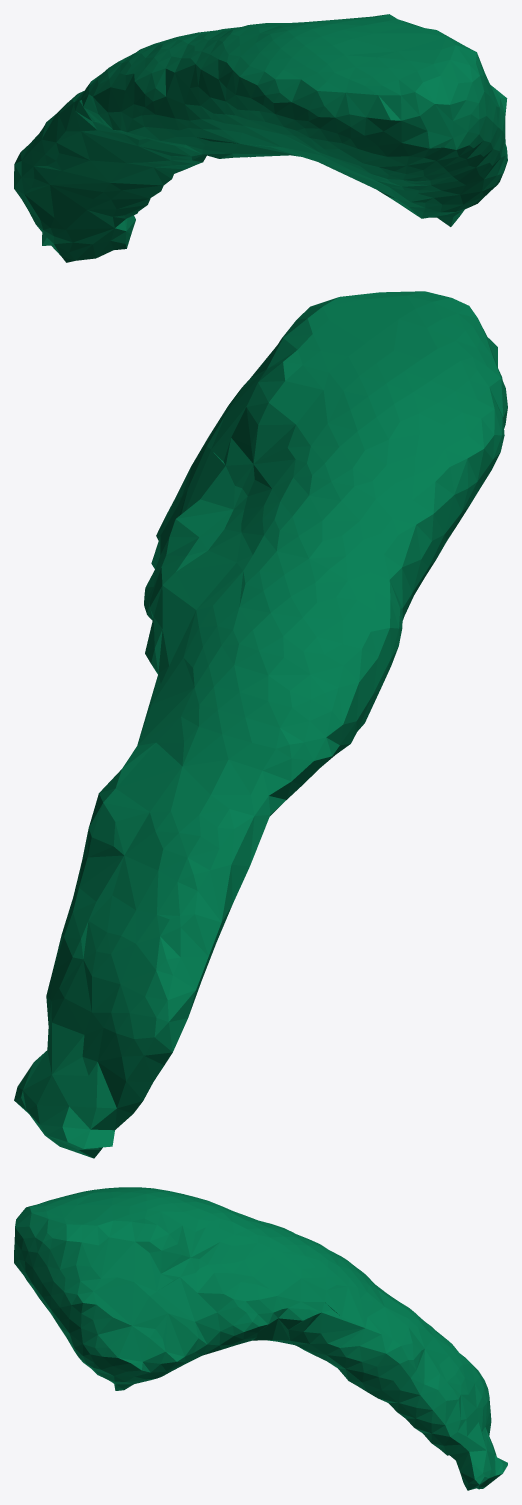
The model's file is Model_236_RH__Ventral_nucleus_of_the_endopiriform_claustrum_(VEn).obj.
The picture shows the model from 3 angles, top to bottom: view 1: azimuth 30°, elevation 25°; view 2: azimuth 150°, elevation 25°; view 3: azimuth 270°, elevation 25°; orthographic projection. The views are drawn at different scales.
Bounding box in the file's own units: 1.28 × 1.84 × 2.79.
